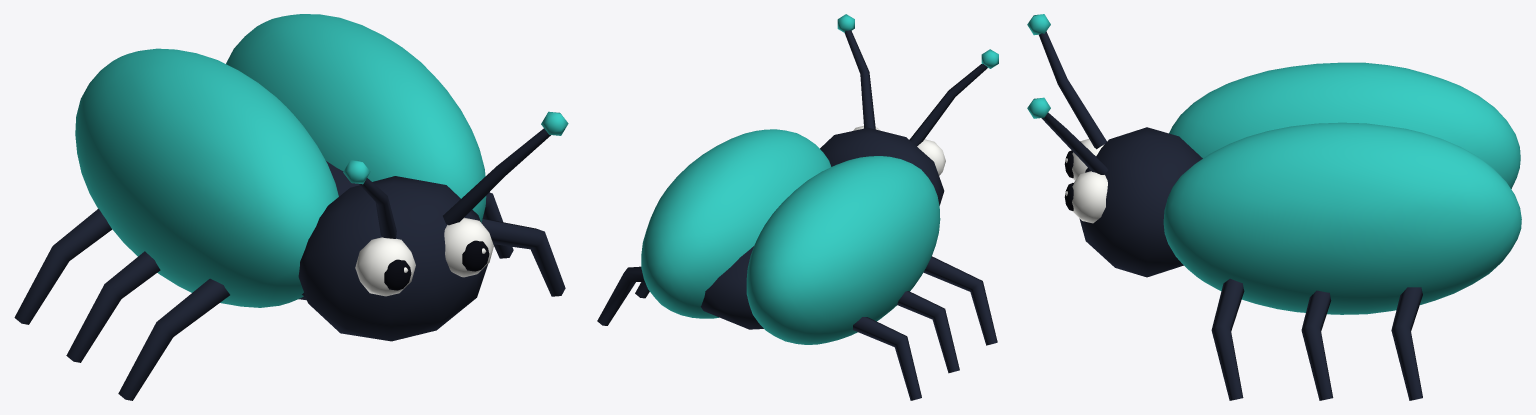
Rendered from beetle.glb.
3 renders of one model, left to right at view 1: azimuth 30°, elevation 25°; view 2: azimuth 150°, elevation 25°; view 3: azimuth 270°, elevation 25°, orthographic. The views are drawn at different scales.
Visible parts, largest first — view 1: beetle; view 2: beetle; view 3: beetle.
Part boxes in pixels (left/top/right/bottom): beetle: left=14, top=14, right=568, bottom=400; beetle: left=597, top=14, right=998, bottom=400; beetle: left=1027, top=14, right=1521, bottom=400.
Size of the model in its own units: 1.48 by 0.9355 by 1.65.
